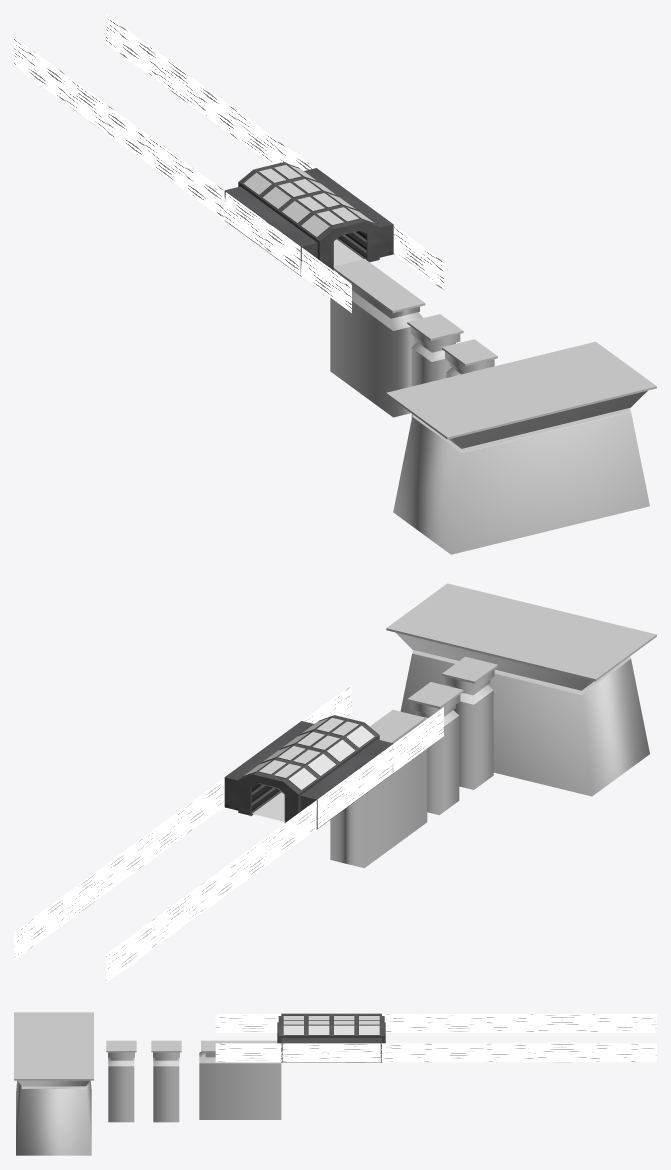
Rendered from walk.fbx.
3 renders of one model, top to bottom at view 1: azimuth 30°, elevation 25°; view 2: azimuth 150°, elevation 25°; view 3: azimuth 270°, elevation 25°, orthographic. The views are drawn at different scales.
Parts seen in each view (by area): view 1: Cube.002, Dynamic Wall, Catwalk, Cube, Cube.003, Cube.001; view 2: Cube.002, Dynamic Wall, Catwalk, Cube, Cube.001, Cube.003; view 3: Dynamic Wall, Cube.002, Cube, Catwalk, Cube.001, Cube.003.
Boxes of the visible parts, x1,y1,x2,y2 form: Cube.002: (386,341,656,554); Dynamic Wall: (14,14,443,312); Catwalk: (224,162,393,276); Cube: (330,259,425,417); Cube.003: (407,314,463,418); Cube.001: (442,339,497,377); Cube.002: (386,583,656,796); Dynamic Wall: (14,684,443,983); Catwalk: (224,715,393,829); Cube: (330,710,427,868); Cube.001: (442,656,497,789); Cube.003: (407,682,463,815); Dynamic Wall: (215,1014,656,1062); Cube.002: (14,1012,93,1155); Cube: (199,1040,281,1119); Catwalk: (277,1013,385,1062); Cube.001: (106,1040,136,1122); Cube.003: (151,1040,181,1122).
Size of what is drawn, in the model's own units: 2126 by 1538 by 8647.
